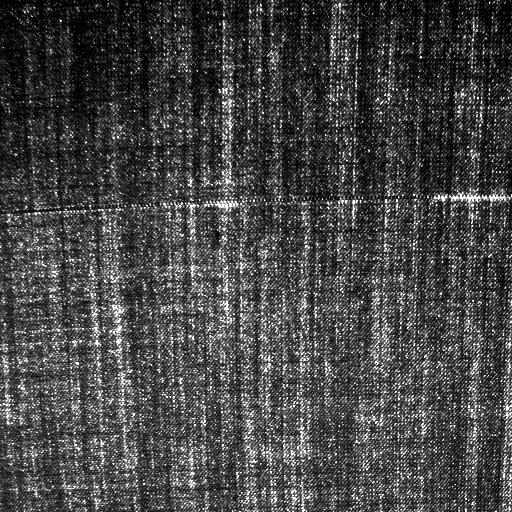fabric_broken_pick: (25, 178, 503, 214)
